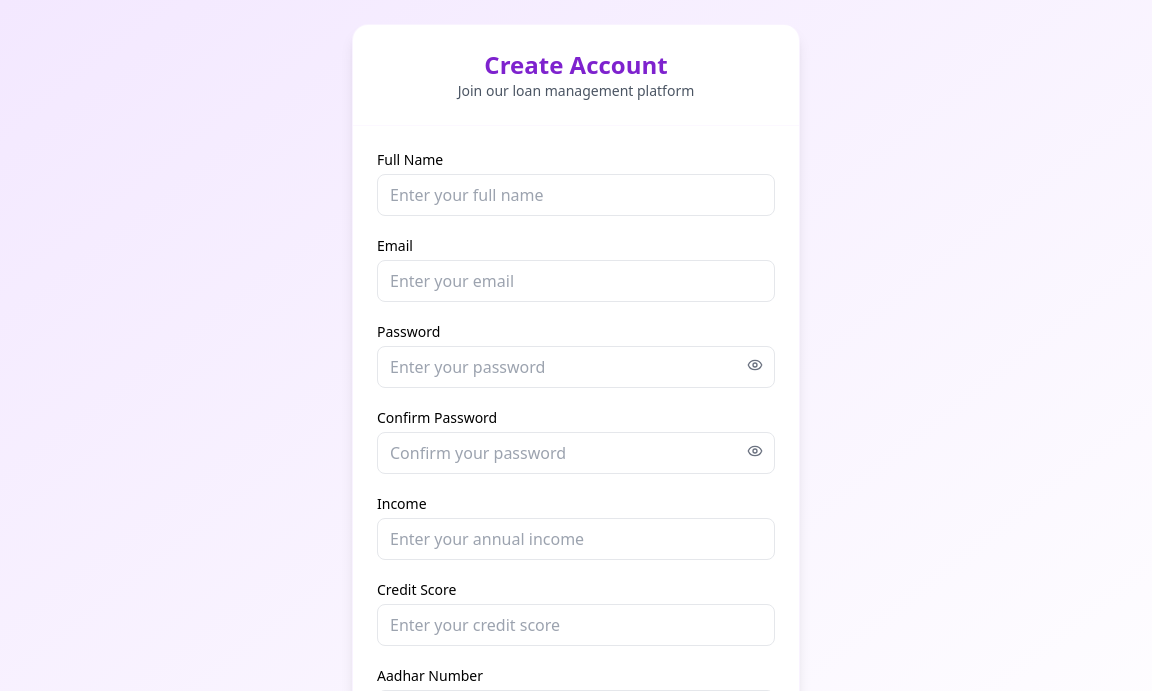
Scenario: UserRegistrationForm.vue › shows password mismatch error
Type "Aom Tester" into the field with id "name". click: (576, 195)
box: [377,174,775,216]
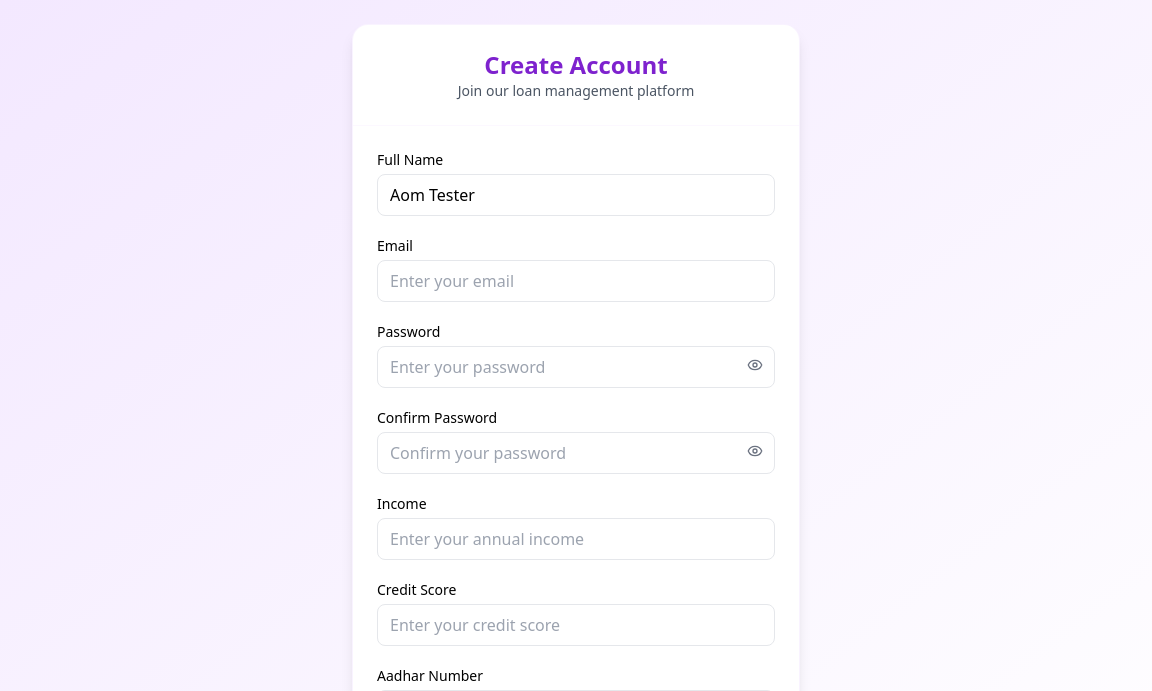
Type "aom@test.com" into the field with id "email". click: (576, 281)
box: [377,260,775,302]
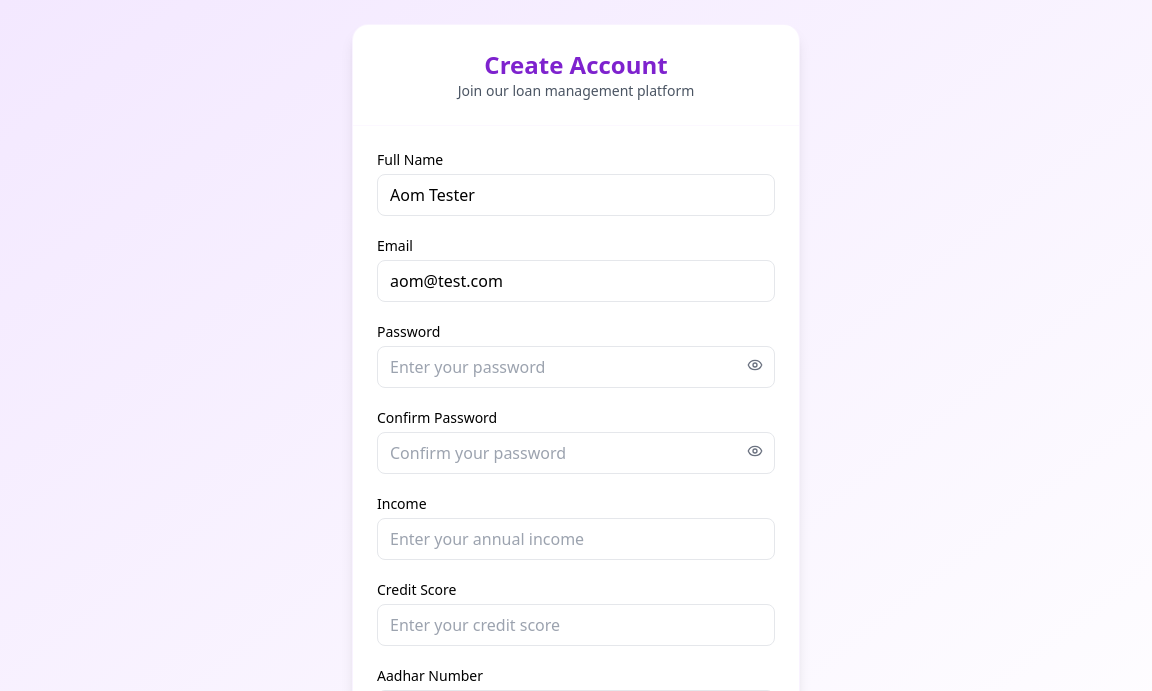
Type "Password1!" into the password field labelled "Password". click: (576, 367)
box: [377,346,775,388]
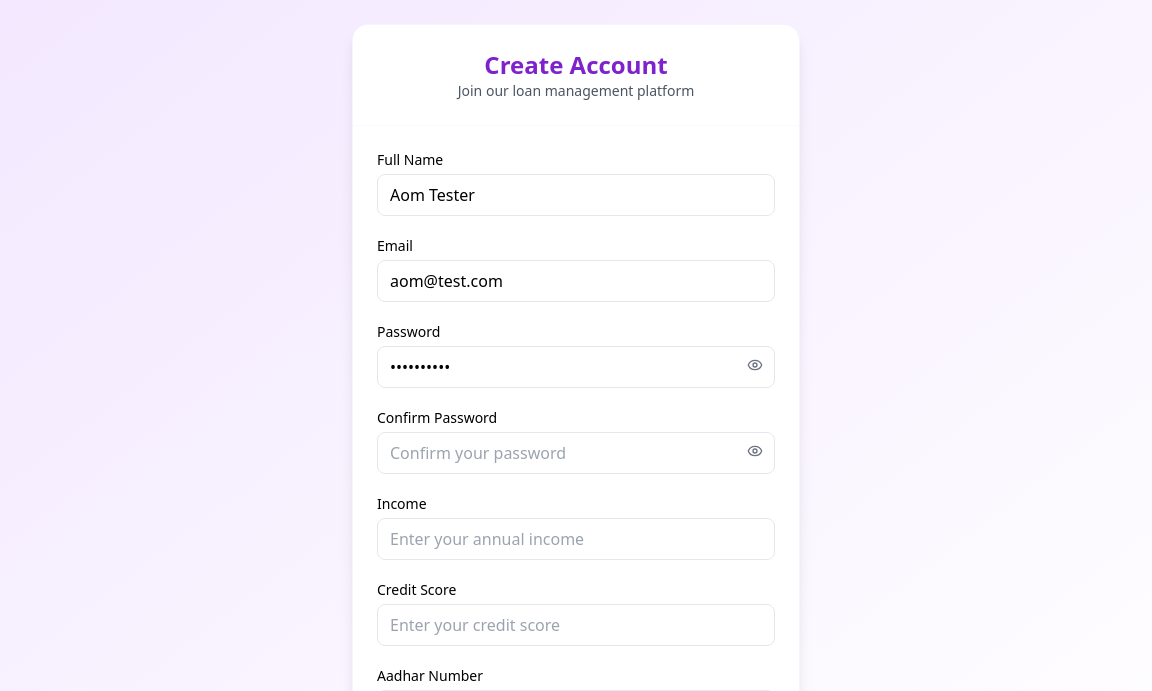
Type "Password2!" into the password field with id "confirmPassword". click: (576, 453)
box: [377,432,775,474]
(page scrolled)
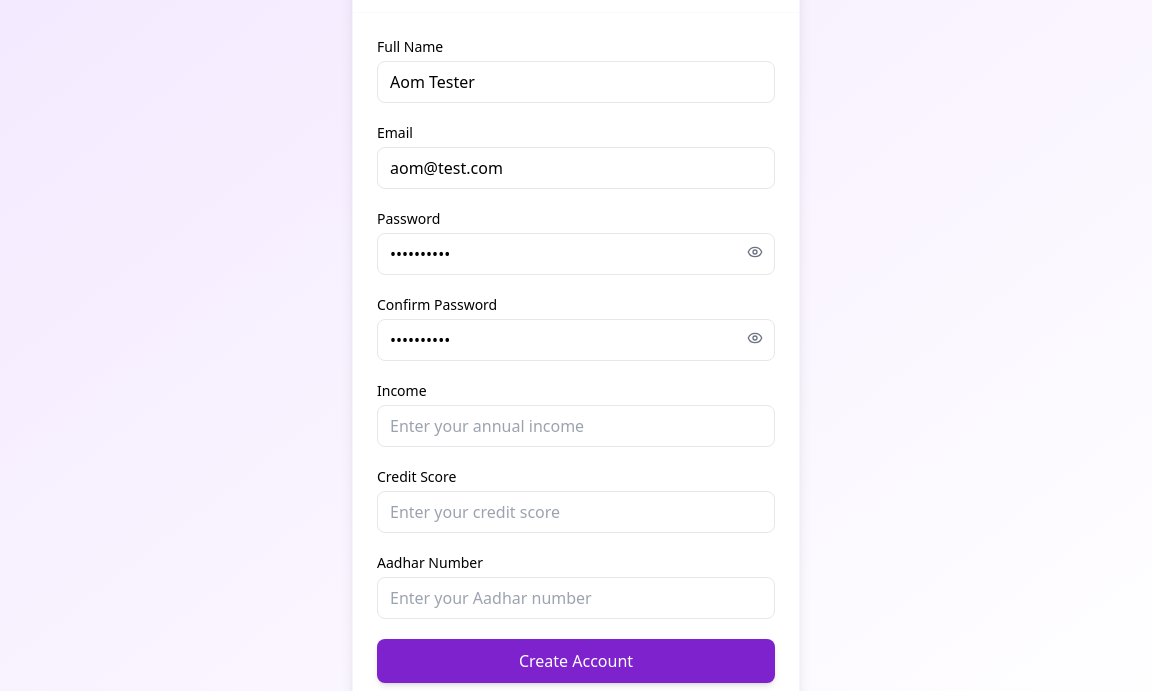
Submit the form, box [377,37,775,683]
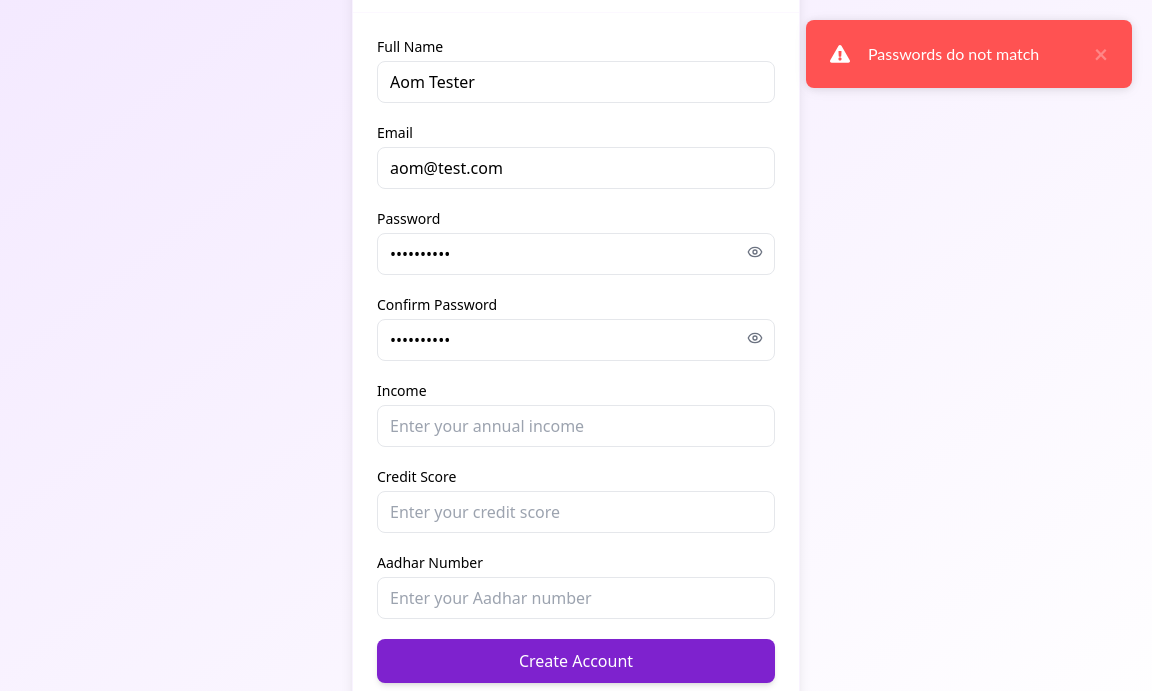
Expected: the text "Passwords do not match" is shown, [868,44,1039,63]
